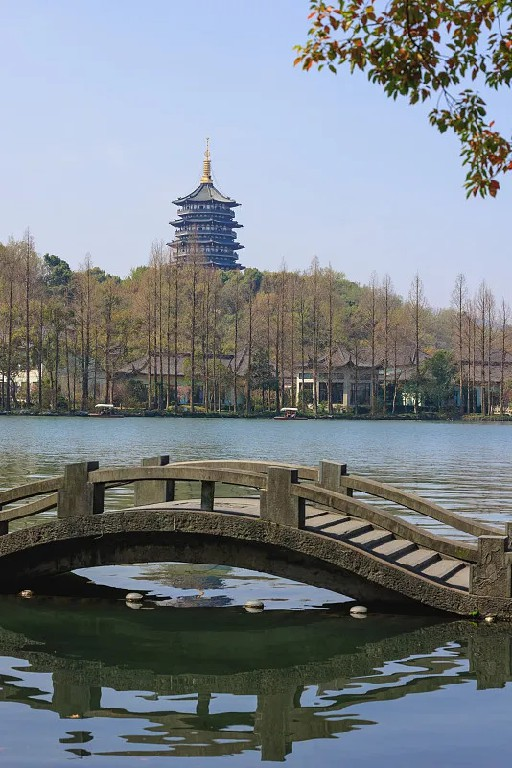Leifeng: (168, 135, 246, 270)
